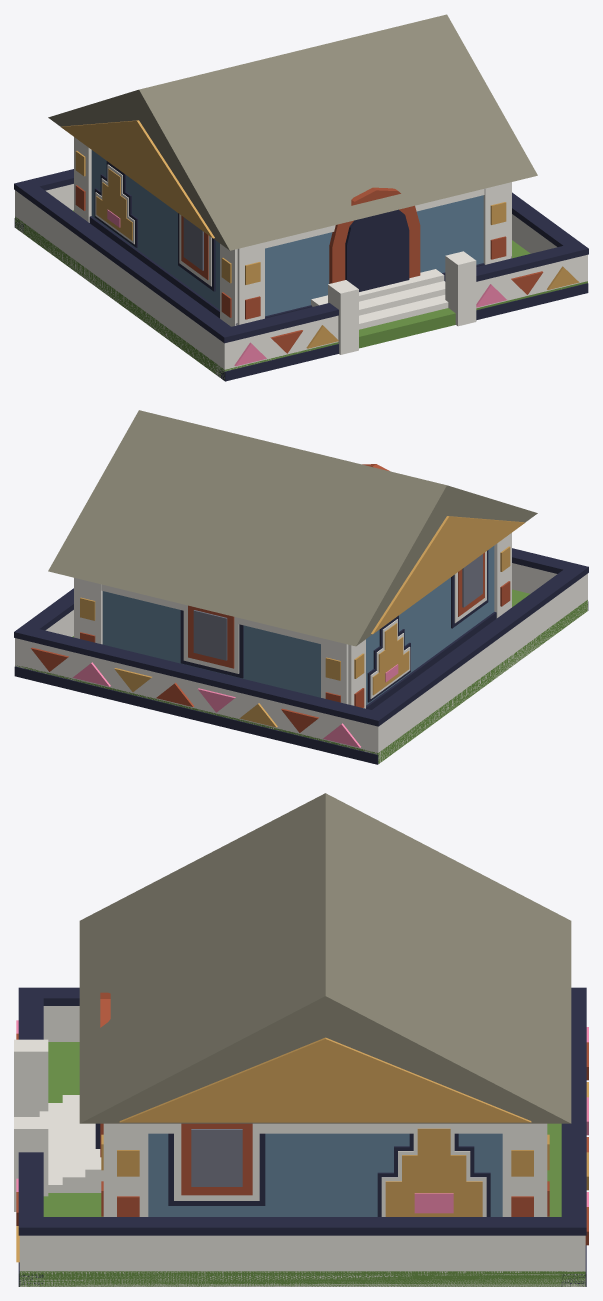
File: house-1x1-1f-ndebele-a.glb
The picture shows the model from 3 angles, top to bottom: view 1: azimuth 30°, elevation 25°; view 2: azimuth 150°, elevation 25°; view 3: azimuth 270°, elevation 25°; orthographic projection. The views are drawn at different scales.
Parts seen in each view (by area): view 1: house-1x1-1f-ndebele-a; view 2: house-1x1-1f-ndebele-a; view 3: house-1x1-1f-ndebele-a.
Part boxes in pixels (x1,y1,x2,y2): house-1x1-1f-ndebele-a: (14, 14, 588, 381); house-1x1-1f-ndebele-a: (14, 410, 588, 764); house-1x1-1f-ndebele-a: (14, 793, 588, 1286).
Bounding box in the file's own units: 0.994 × 0.5265 × 1.01.
Materials: 1 (1 with a texture image).
